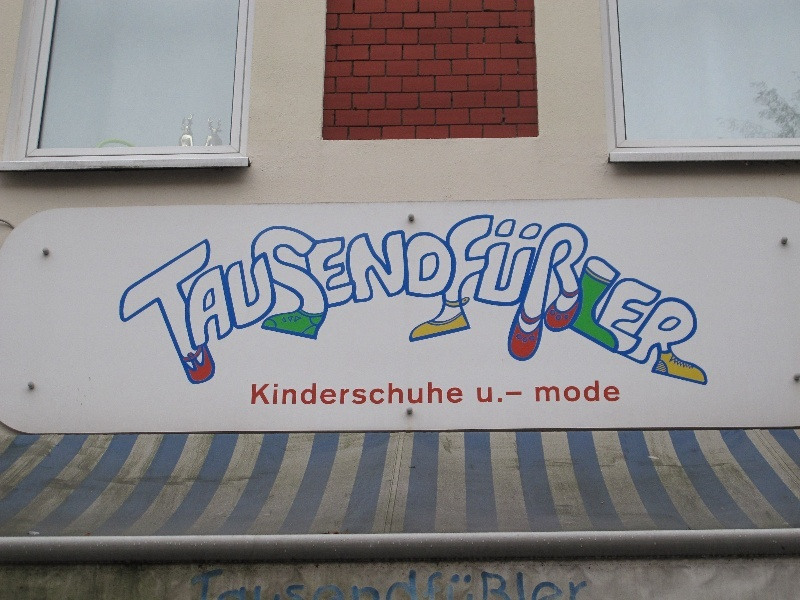text: (129, 211, 144, 390), (145, 211, 160, 390), (161, 211, 176, 390), (177, 211, 192, 390), (193, 211, 208, 390), (209, 211, 224, 390), (225, 211, 240, 390), (241, 211, 256, 390), (257, 211, 272, 390), (273, 211, 288, 390), (289, 211, 304, 390), (305, 211, 320, 390), (321, 211, 336, 390), (337, 211, 352, 390), (353, 211, 368, 390), (369, 211, 384, 390), (385, 211, 400, 390), (401, 211, 416, 390), (417, 211, 432, 390), (433, 211, 448, 390), (449, 211, 464, 390), (465, 211, 480, 390), (481, 211, 496, 390), (497, 211, 512, 390), (513, 211, 528, 390), (529, 211, 544, 390), (545, 211, 560, 390), (561, 211, 576, 390), (577, 211, 592, 390), (593, 211, 608, 390), (609, 211, 624, 390), (625, 211, 640, 390), (641, 211, 656, 390), (657, 211, 672, 390), (673, 211, 688, 390), (689, 211, 704, 390), (705, 211, 717, 390), (118, 211, 128, 390), (193, 571, 208, 600), (209, 571, 224, 600), (225, 571, 240, 600), (241, 571, 256, 600), (257, 571, 272, 600), (273, 571, 288, 600), (289, 571, 304, 600), (305, 571, 320, 600), (321, 571, 336, 600), (337, 571, 352, 600), (353, 571, 368, 600), (369, 571, 384, 600), (385, 571, 400, 600), (401, 571, 416, 600), (417, 571, 432, 600), (433, 571, 448, 600), (449, 571, 464, 600), (465, 571, 480, 600), (481, 571, 496, 600), (497, 571, 512, 600), (513, 571, 528, 600), (529, 571, 544, 600), (545, 571, 560, 600), (561, 571, 576, 600), (545, 379, 560, 404), (561, 379, 576, 404), (577, 379, 592, 404), (593, 379, 608, 404), (449, 383, 465, 405), (257, 383, 272, 405), (273, 383, 288, 405), (289, 383, 304, 405), (305, 383, 320, 405), (321, 383, 336, 405), (337, 383, 352, 405), (353, 383, 368, 405), (369, 383, 384, 405), (385, 383, 400, 405), (401, 383, 416, 405), (417, 383, 432, 405), (433, 383, 448, 405), (577, 571, 588, 600), (609, 379, 620, 404), (481, 387, 496, 405), (535, 379, 544, 404), (497, 387, 506, 405), (476, 387, 480, 405), (253, 383, 256, 405), (190, 571, 192, 600), (513, 391, 522, 397), (506, 391, 512, 397)
